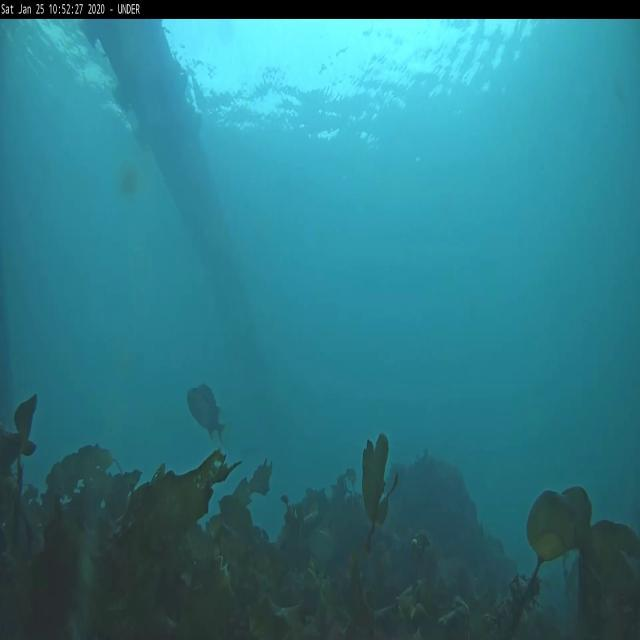fish: (189, 382, 227, 445)
